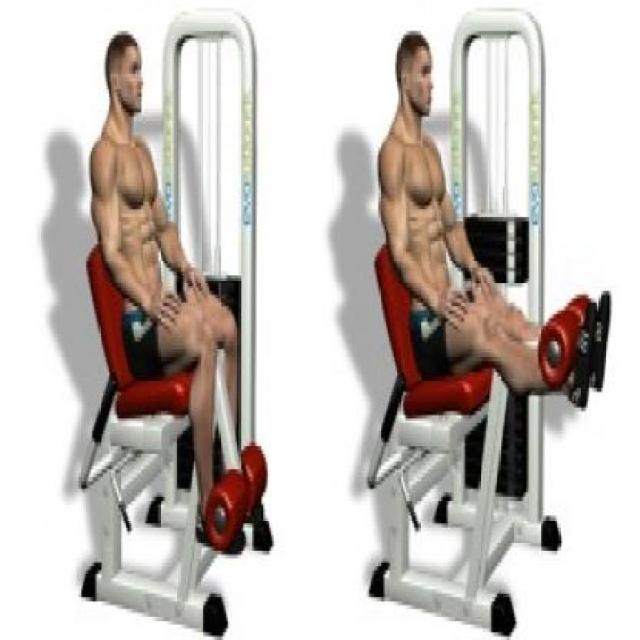leg extension: (351, 4, 620, 640), (69, 4, 280, 640)
